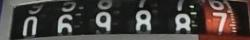digits: (134, 9, 153, 38), (94, 10, 111, 38), (57, 14, 75, 39), (210, 11, 227, 37), (174, 13, 192, 36), (22, 16, 37, 36)
